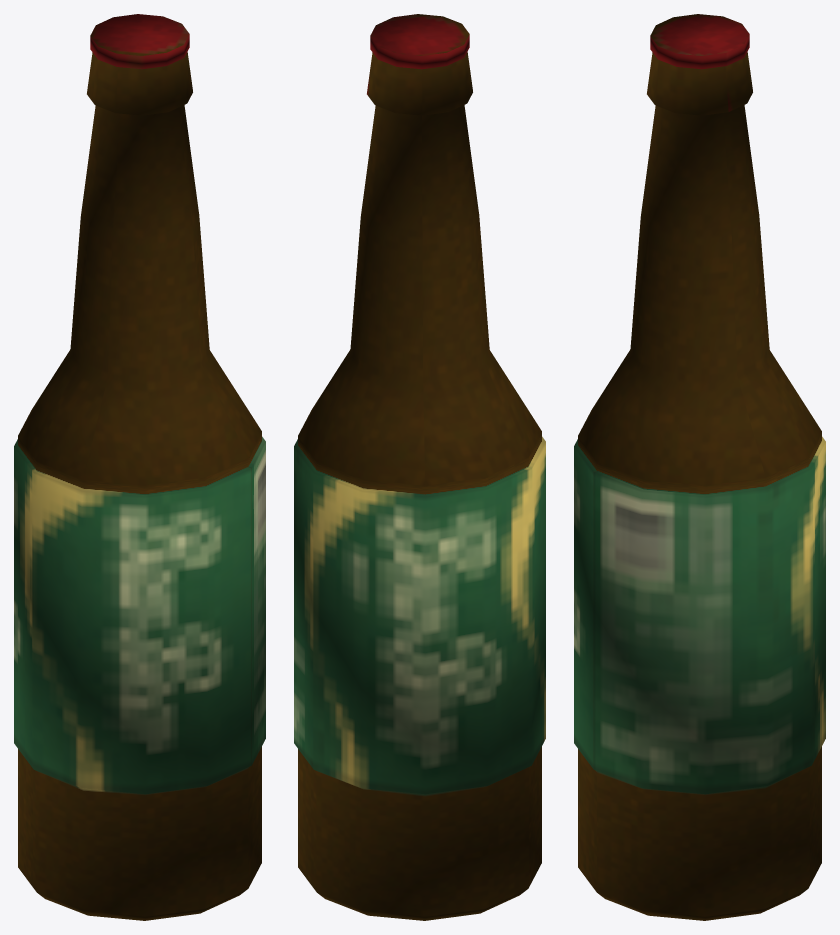
The model's file is beer_bottle.glb.
3 renders of one model, left to right at view 1: azimuth 30°, elevation 25°; view 2: azimuth 150°, elevation 25°; view 3: azimuth 270°, elevation 25°, orthographic.
Parts seen in each view (by area): view 1: beer bottle; view 2: beer bottle; view 3: beer bottle.
Boxes of the visible parts, <box> form: beer bottle: <box>14,14,265,920</box>; beer bottle: <box>294,14,545,920</box>; beer bottle: <box>574,14,825,920</box>.
Size of the model in its own units: 0.0794 by 0.292 by 0.0794.
1 material, 1 textured.
